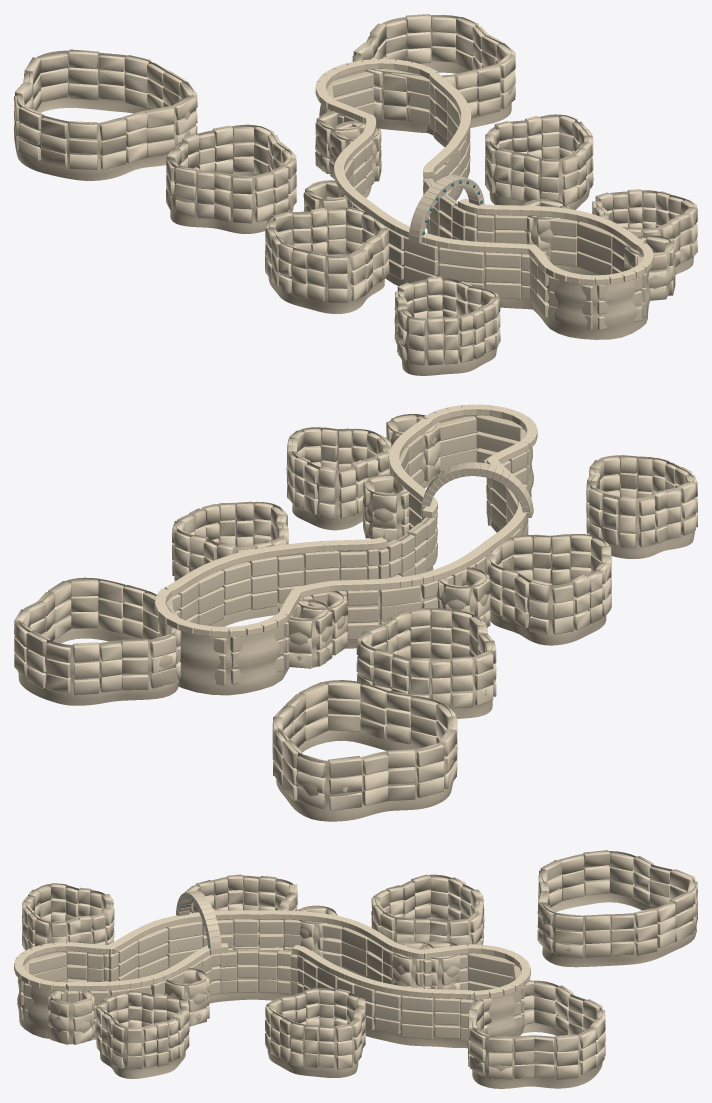
File: oasis-course-2-mobile-lod-v1-70fe432002.glb
3 views of the same model, one above another, from view 1: azimuth 30°, elevation 25°; view 2: azimuth 150°, elevation 25°; view 3: azimuth 270°, elevation 25° (orthographic). The views are drawn at different scales.
Visible parts, largest first — view 1: Oasis artisan masonry; view 2: Oasis artisan masonry; view 3: Oasis artisan masonry.
Part boxes in pixels (left/top/right/bottom): Oasis artisan masonry: left=14, top=14, right=697, bottom=375; Oasis artisan masonry: left=14, top=404, right=697, bottom=821; Oasis artisan masonry: left=14, top=850, right=697, bottom=1088.
Size of the model in its own units: 17.73 by 4.07 by 27.04.
